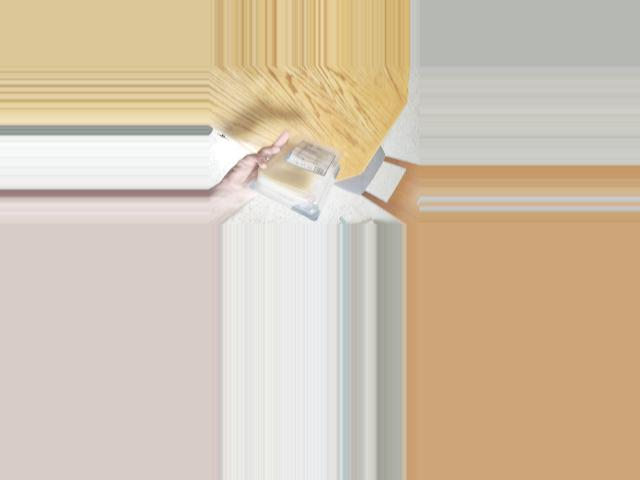cheese: (247, 149, 342, 214)
